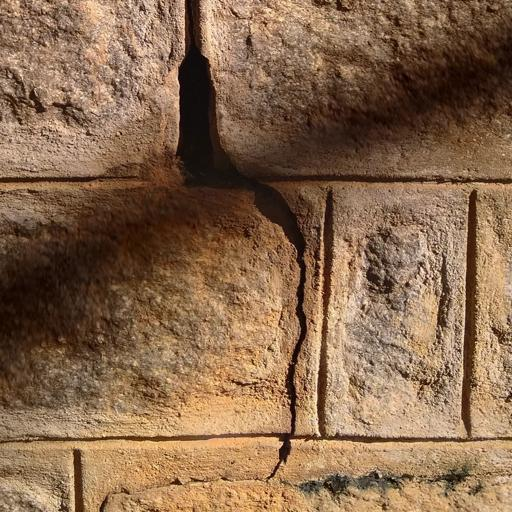major_crack: (158, 0, 326, 494), (95, 442, 207, 512)
